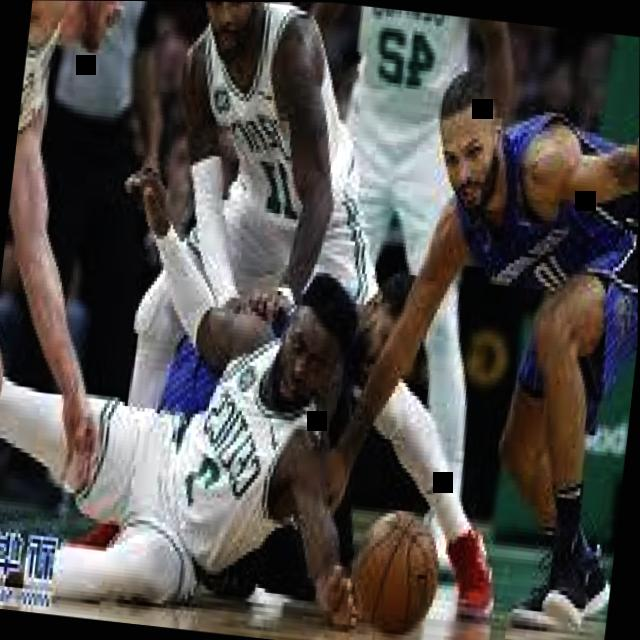Fall-Detected: (0, 179, 386, 631)
